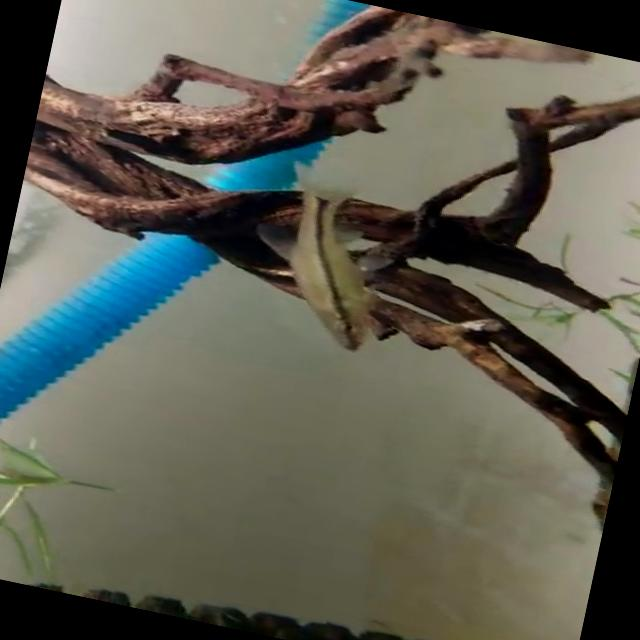Cakil Baligi: (234, 153, 416, 359)
